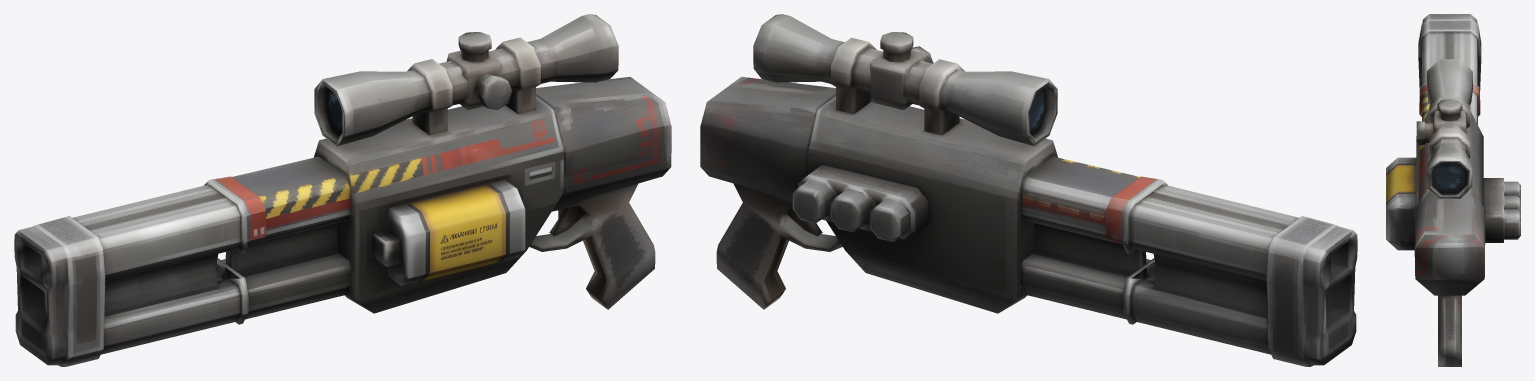
The model's file is railgun.fbx.
The picture shows the model from 3 angles, left to right: view 1: azimuth 30°, elevation 25°; view 2: azimuth 150°, elevation 25°; view 3: azimuth 270°, elevation 25°; orthographic projection. The views are drawn at different scales.
Parts seen in each view (by area): view 1: tripo_node_b05c5b2d; view 2: tripo_node_b05c5b2d; view 3: tripo_node_b05c5b2d.
Part boxes in pixels (box(x1,y1,x2,y2)): tripo_node_b05c5b2d: box(14, 14, 671, 366); tripo_node_b05c5b2d: box(700, 14, 1357, 366); tripo_node_b05c5b2d: box(1386, 14, 1520, 366).
Bounding box in the file's own units: 100 × 25.55 × 45.58.
Materials: 1 (1 with a texture image).
